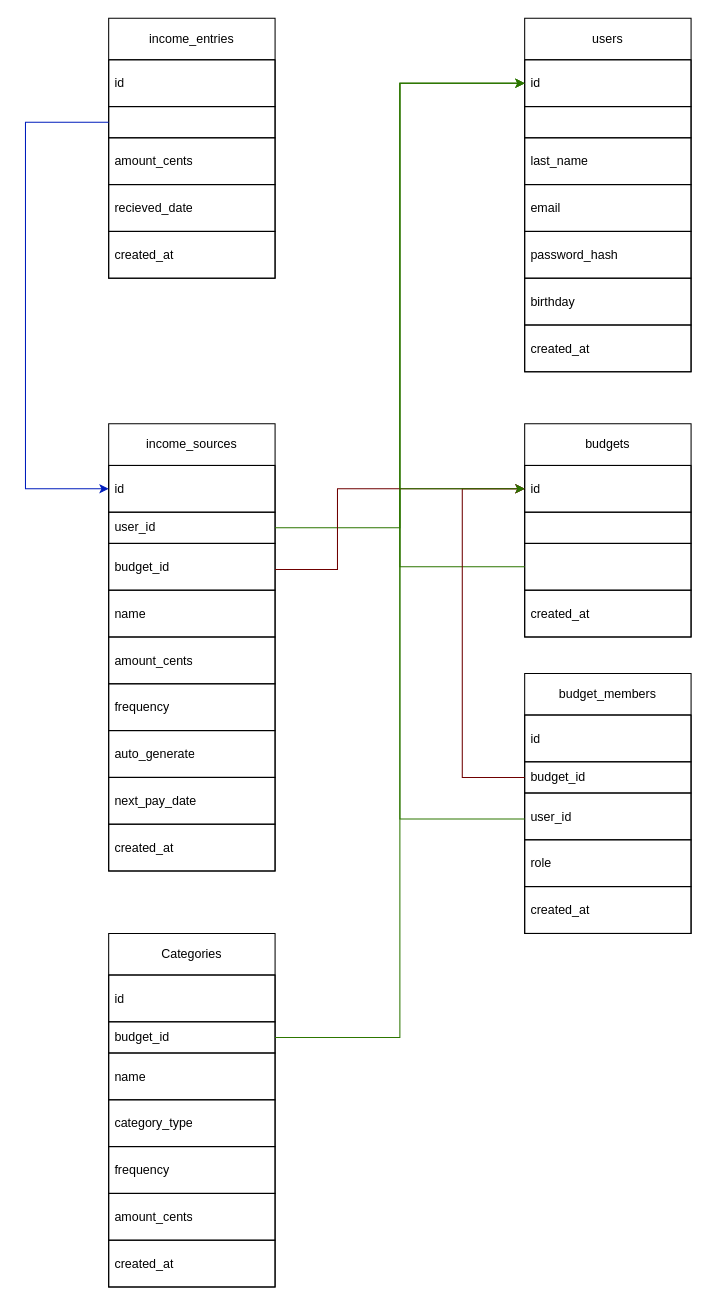
Some shapes in this 709 by 1305 pixel diagram are drawn without their labels. Each missing label, with the centre of its shape:
first_name: [607,122]
income_source_id: [191,122]
owner_id: [607,566]
title: [607,527]
